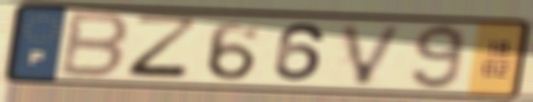6: (205, 18, 263, 82), (271, 21, 328, 84)
9: (407, 22, 468, 92)
B: (55, 9, 134, 82)
V: (338, 22, 409, 87)
Z: (123, 13, 204, 83)
